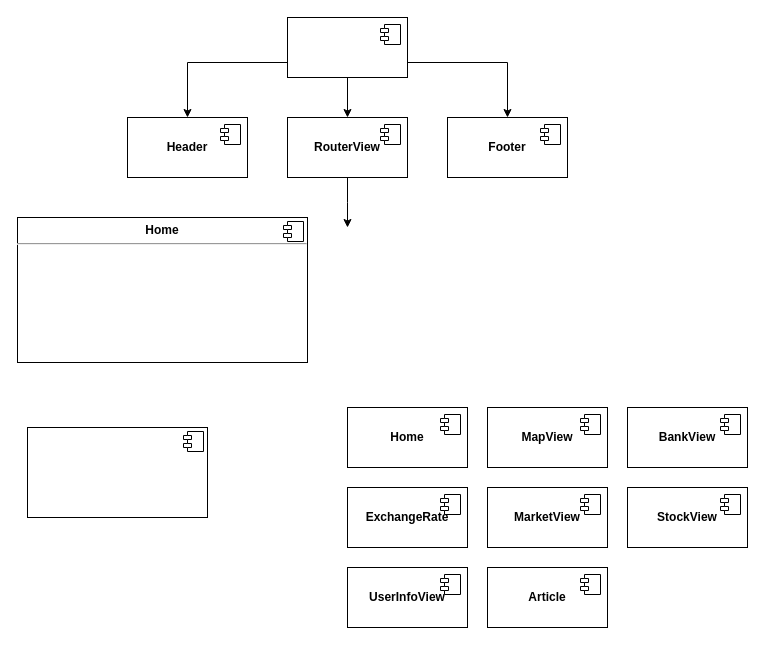
Image size: 765x645. Some labels were removed from this diagram. Each missing label, with the centre of its shape:
App: the point at 347,47
Kospi <<required interfaces>>: the point at 117,472
